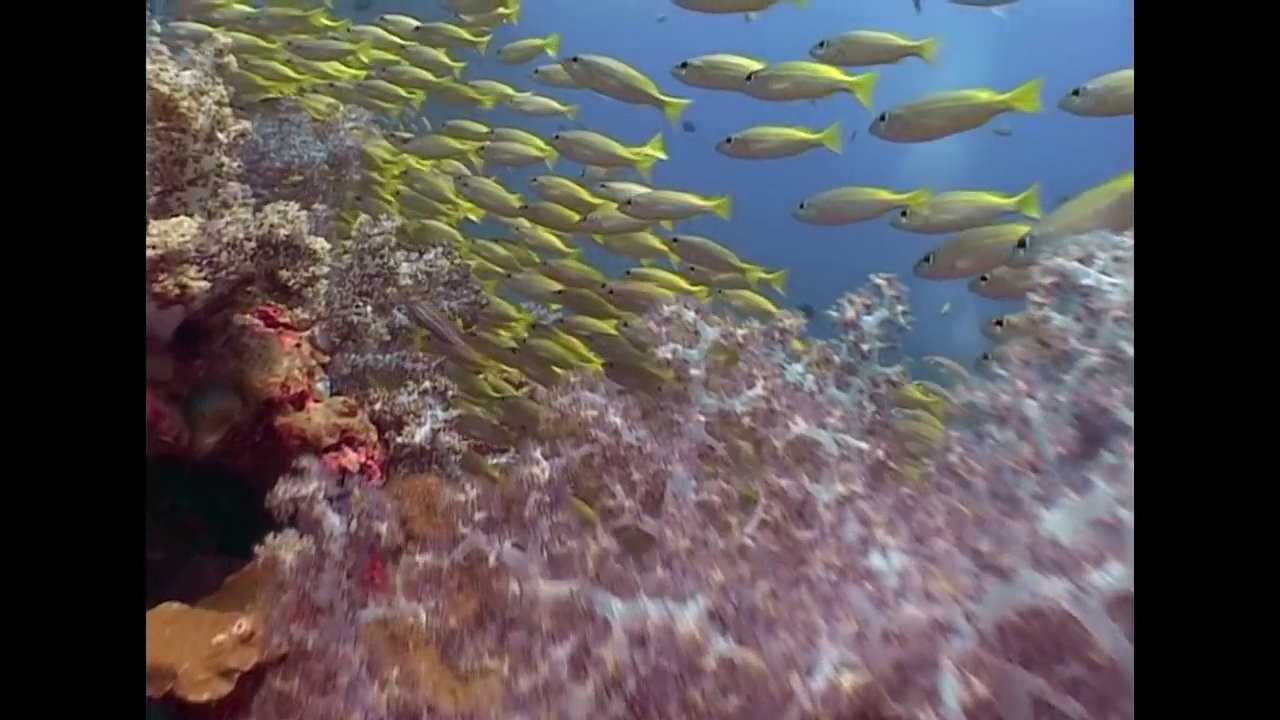big eye snapper: (870, 75, 1043, 140), (1012, 171, 1131, 261), (560, 46, 685, 117), (911, 219, 1031, 281), (740, 56, 875, 108), (786, 184, 924, 225), (706, 119, 845, 159), (892, 191, 1034, 229), (666, 231, 759, 286), (550, 122, 652, 170), (808, 30, 931, 62), (669, 50, 762, 90), (524, 315, 595, 363), (525, 166, 598, 210), (1062, 70, 1133, 114), (451, 168, 524, 210), (395, 126, 482, 161), (395, 126, 474, 161), (616, 197, 731, 220), (550, 282, 622, 318), (412, 20, 488, 52), (396, 42, 464, 74), (284, 30, 353, 57), (465, 79, 529, 108), (537, 251, 603, 279), (969, 271, 1039, 297), (493, 34, 556, 61), (549, 306, 613, 332), (625, 261, 688, 287), (344, 20, 403, 47), (514, 219, 565, 250), (502, 266, 553, 295), (594, 173, 652, 197), (529, 57, 580, 84)
